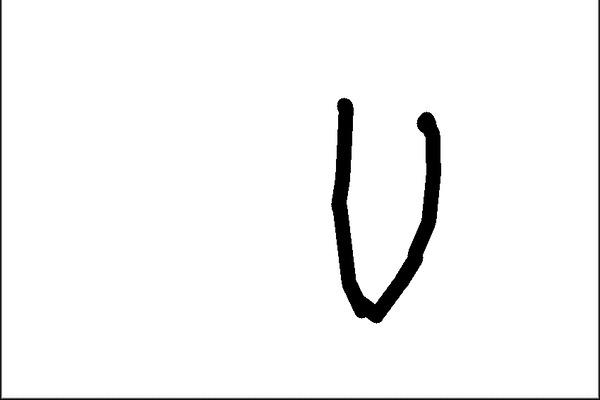U: (311, 82, 449, 327)
